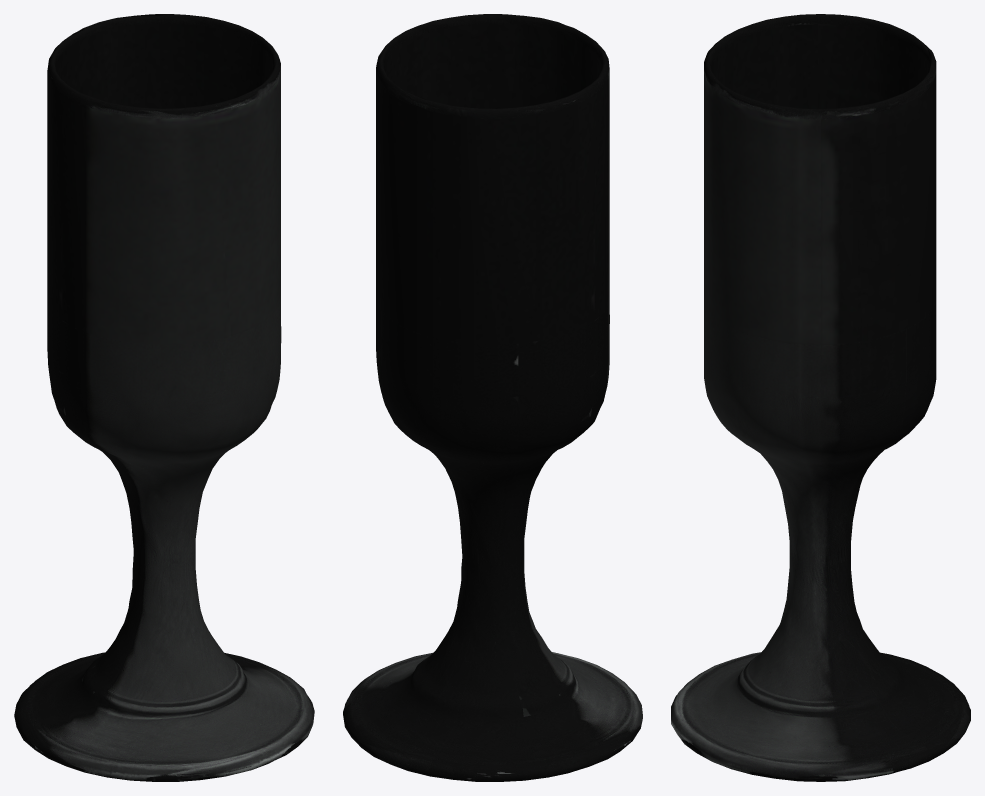
Rendered from Glass_Liqueur_Strait_10InchesTall_TableTop_0222193309_texture.glb.
3 renders of one model, left to right at view 1: azimuth 30°, elevation 25°; view 2: azimuth 150°, elevation 25°; view 3: azimuth 270°, elevation 25°, orthographic.
Parts seen in each view (by area): view 1: Mesh_0.001; view 2: Mesh_0.001; view 3: Mesh_0.001.
Part boxes in pixels (box(x1,y1,x2,y2)): Mesh_0.001: box(14, 14, 314, 781); Mesh_0.001: box(343, 14, 642, 781); Mesh_0.001: box(671, 14, 970, 781).
Size of the model in its own units: 0.1048 by 0.254 by 0.1043.
Materials: 1 (1 with a texture image).
